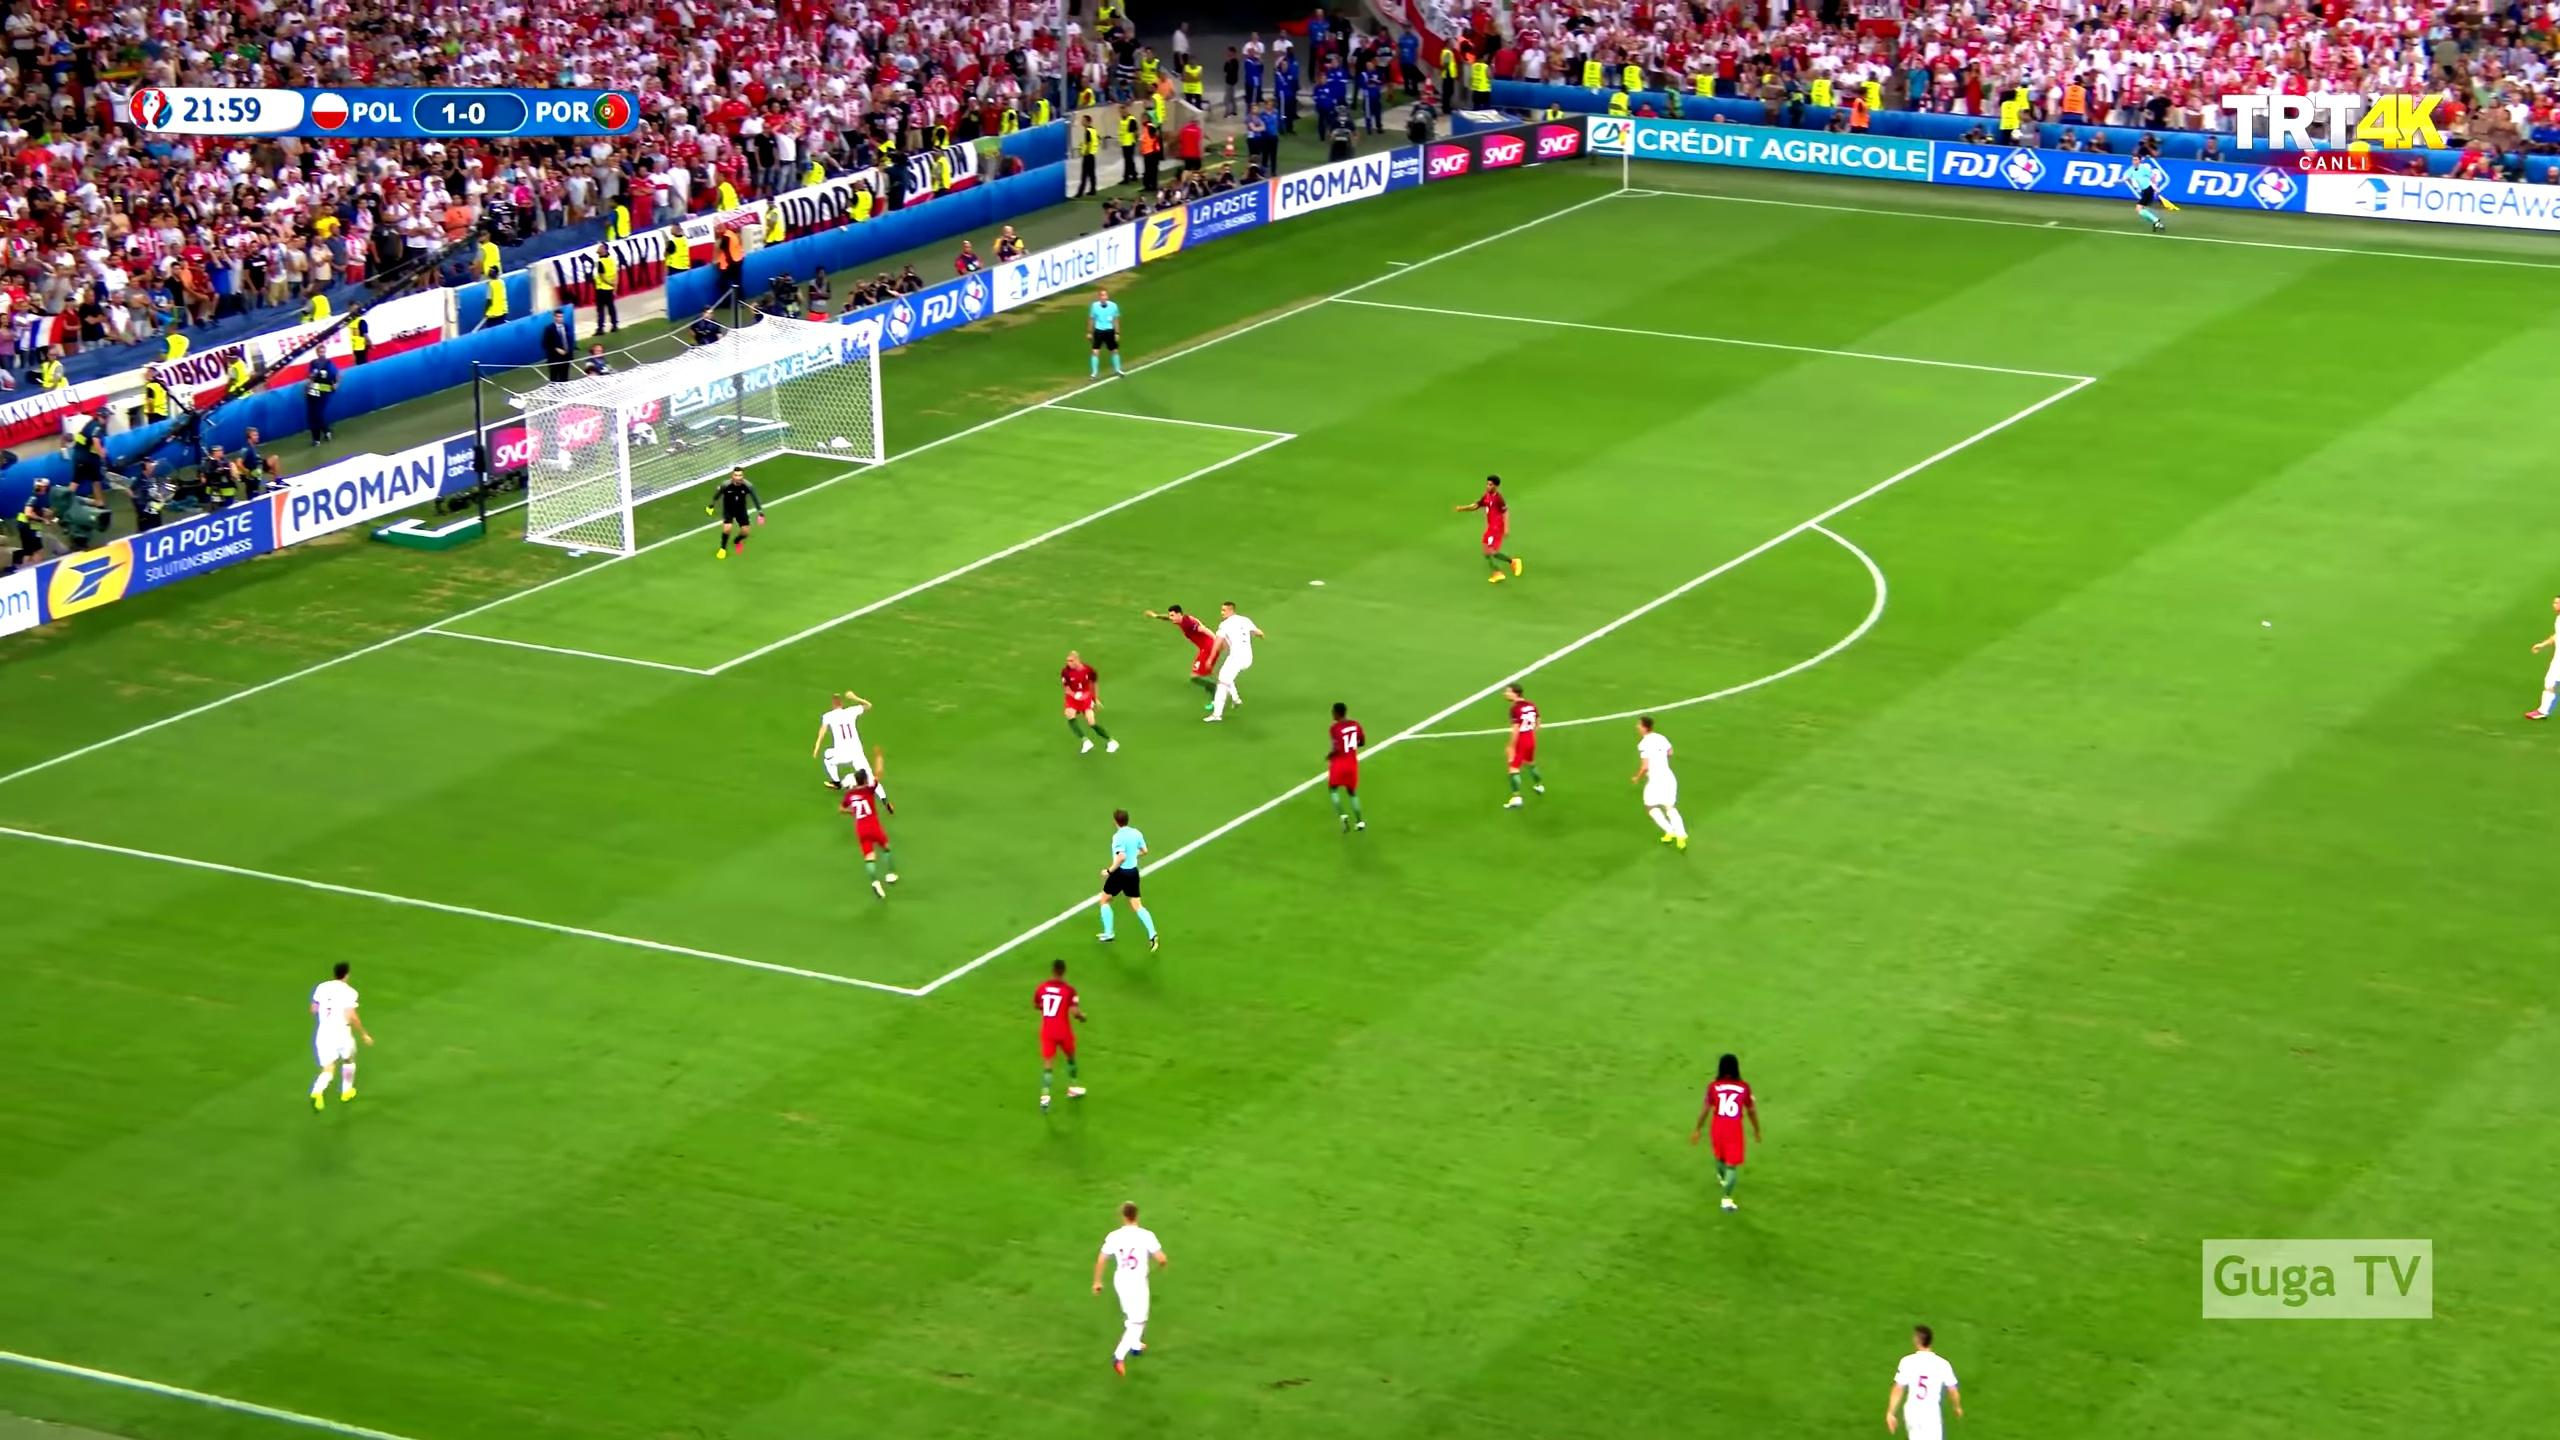ball: (837, 764, 871, 798)
goalkeeper: (702, 461, 770, 563)
player: (1086, 1195, 1176, 1381), (1689, 1048, 1766, 1216), (808, 685, 899, 823), (833, 742, 905, 910), (1877, 1318, 1970, 1440), (1030, 956, 1098, 1115), (304, 960, 372, 1115), (1625, 710, 1694, 854), (1144, 600, 1229, 715), (1199, 592, 1272, 724), (1452, 470, 1528, 590), (1053, 648, 1124, 761), (1493, 679, 1550, 810), (1322, 700, 1371, 840), (2517, 594, 2560, 728)
referee: (1088, 804, 1170, 958), (2119, 149, 2182, 236), (1080, 286, 1131, 385)
